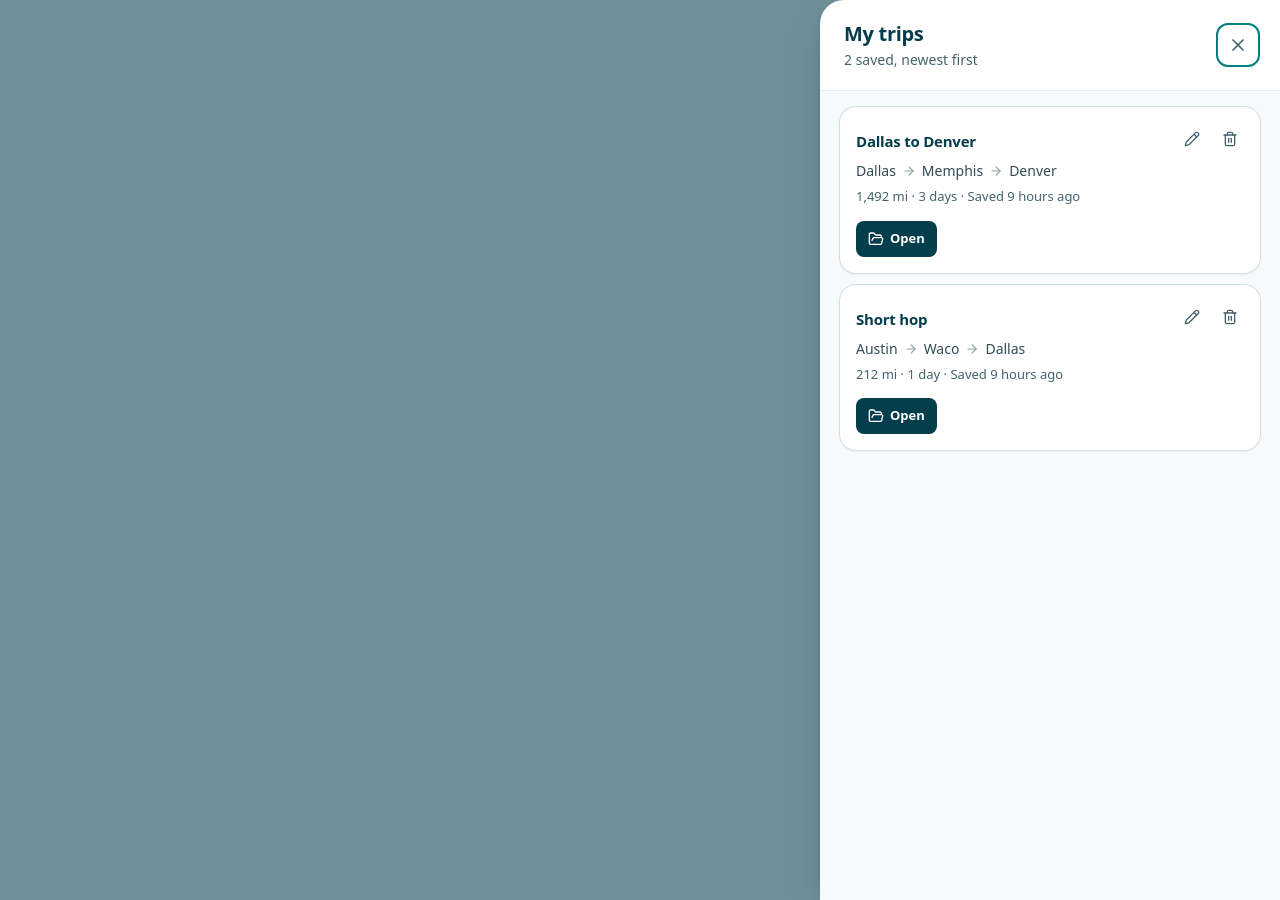
TripsDrawer › opening a trip › shows progress on that row and holds the others back
This screenshot has width=1280, height=900.
Step 1. Click the button with test id "btn-open-trip-aaaa" → (896, 238), box [856,220,937,256]
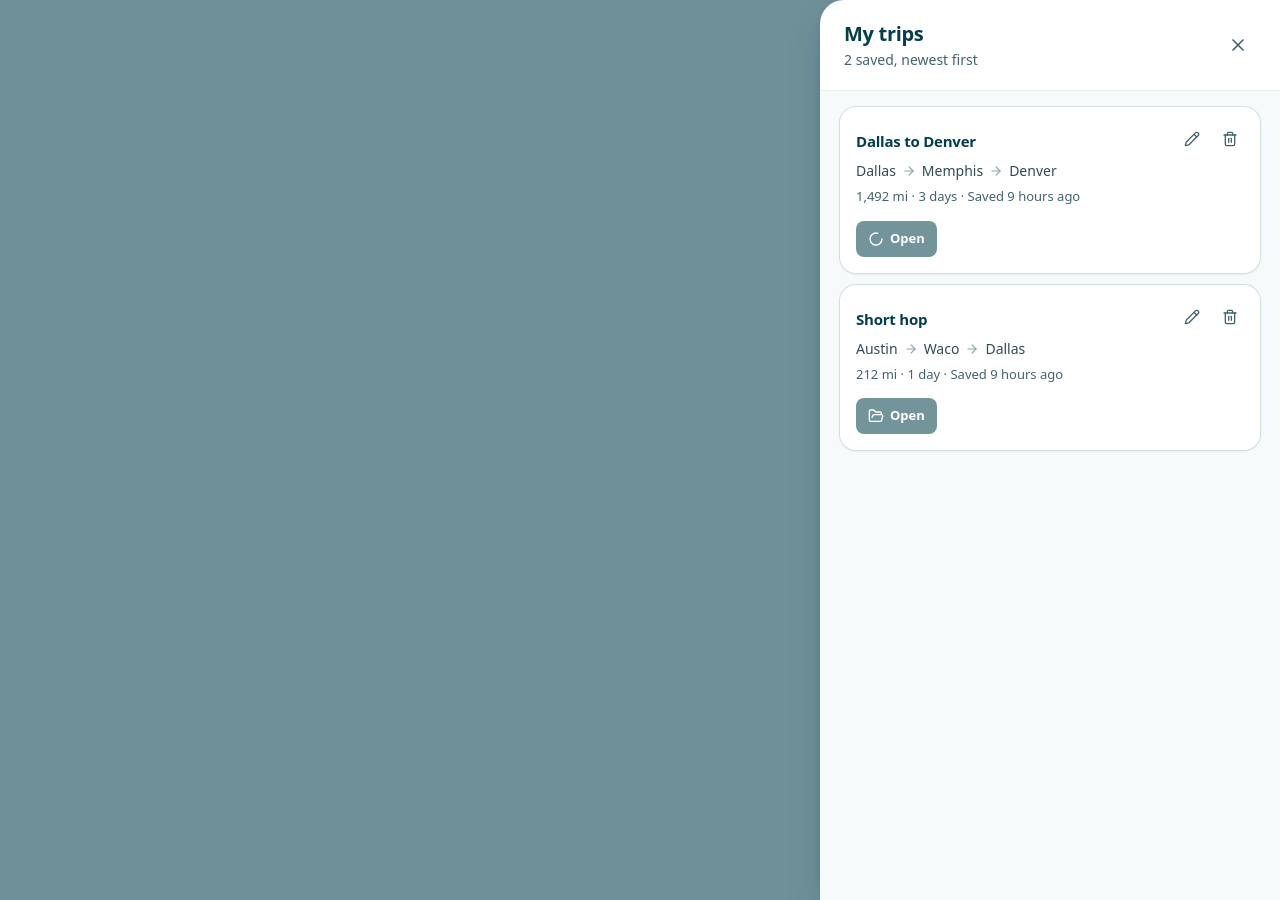
Result: the button with test id "btn-open-trip-bbbb" is disabled at [856,398,937,434]
